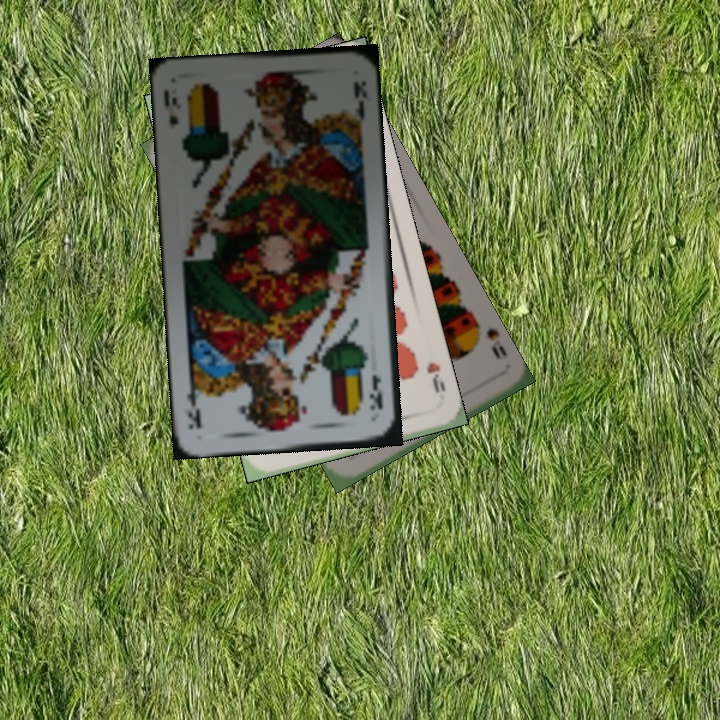EK: (159, 85, 183, 132), (365, 370, 385, 412)
H9: (422, 358, 448, 396)
S9: (472, 316, 504, 362)
